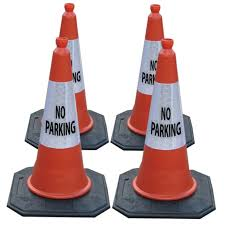cones: (114, 40, 217, 219), (10, 38, 110, 216), (23, 5, 105, 149), (115, 3, 192, 148)
